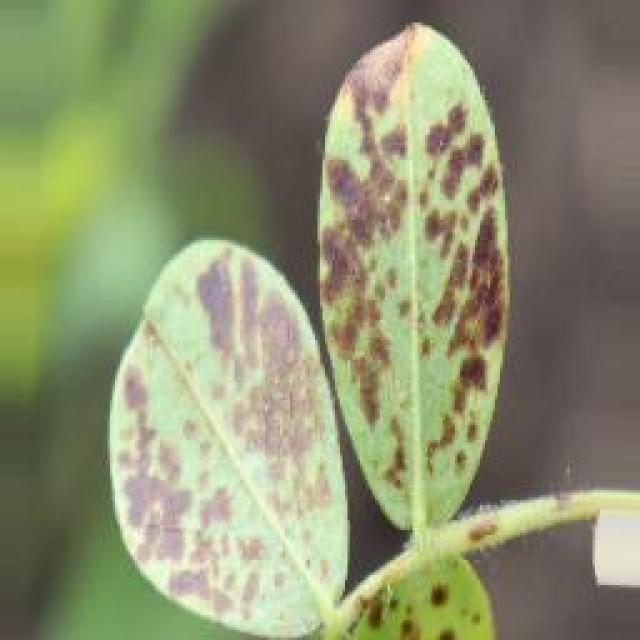Whitefly: (79, 4, 532, 578)
